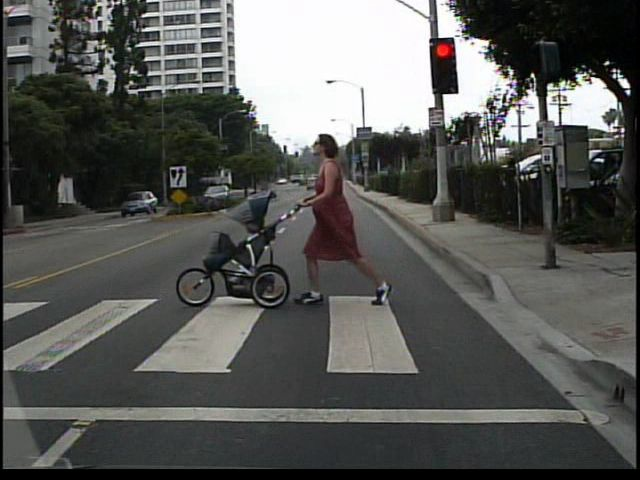person: (301, 131, 393, 307)
